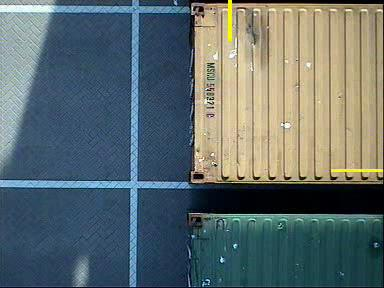groundmarker_2: (107, 74, 166, 112), (107, 221, 166, 258)
